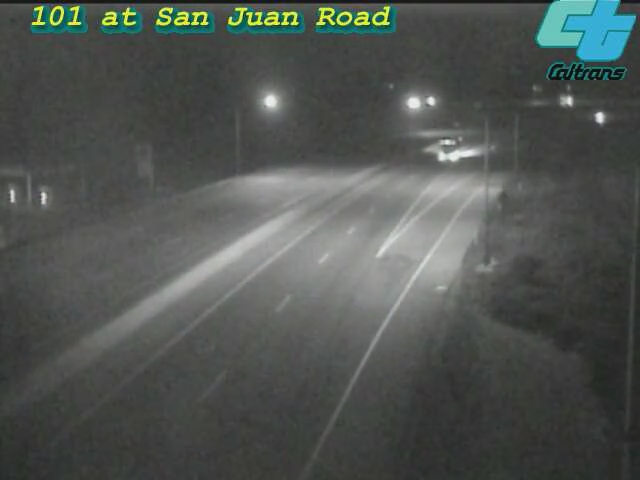vehicle: (576, 92, 626, 142), (429, 122, 479, 172)
